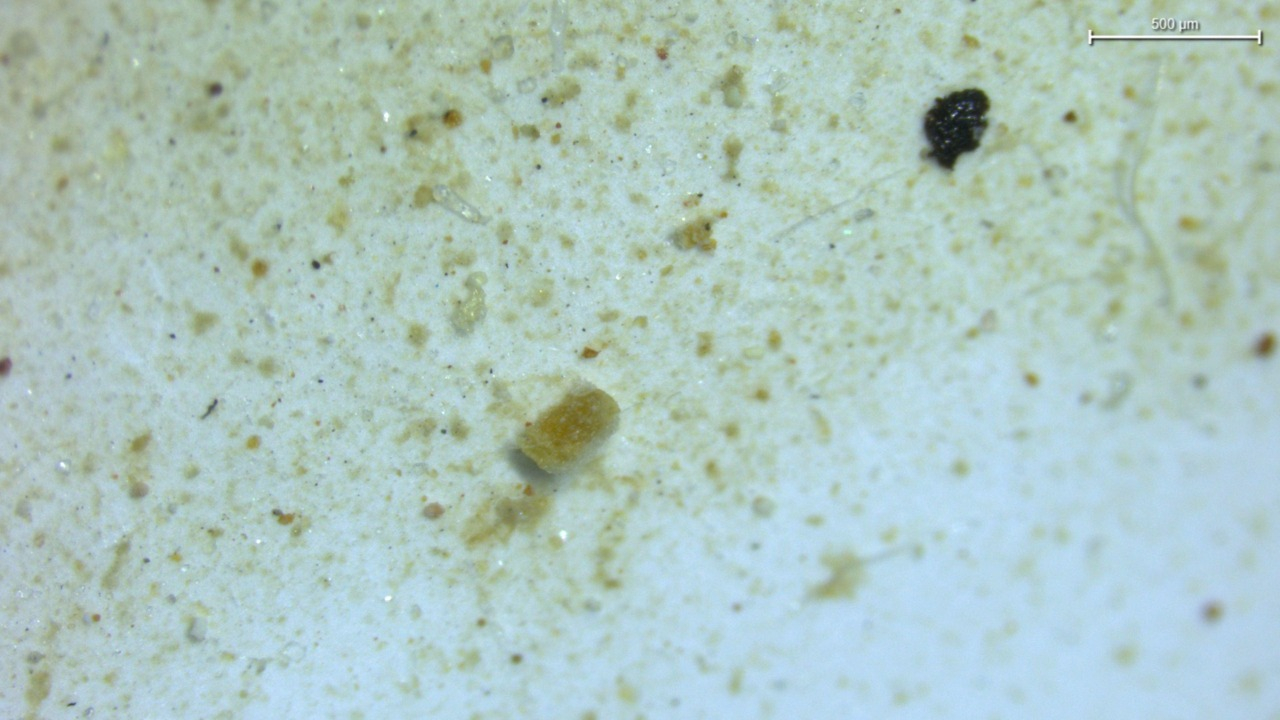microplastic_fragment: (519, 387, 620, 474), (924, 89, 989, 168), (450, 271, 486, 335)
